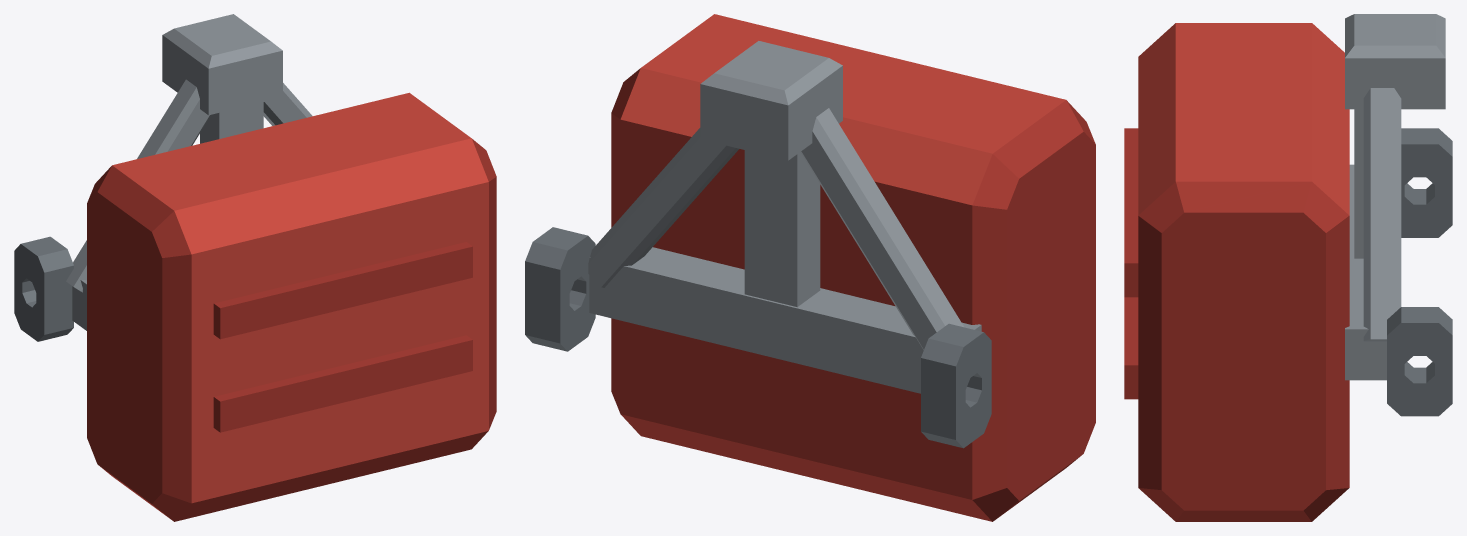
File: FMS_Mach_FrontWeight.fbx
The picture shows the model from 3 angles, left to right: view 1: azimuth 30°, elevation 25°; view 2: azimuth 150°, elevation 25°; view 3: azimuth 270°, elevation 25°; orthographic projection. The views are drawn at different scales.
Parts seen in each view (by area): view 1: Body; view 2: Body; view 3: Body.
Boxes of the visible parts, x1,y1,x2,y2 form: Body: (14,14,496,521); Body: (525,14,1095,521); Body: (1124,14,1452,521).
Bounding box in the file's own units: 0.98 × 0.97 × 0.7.
